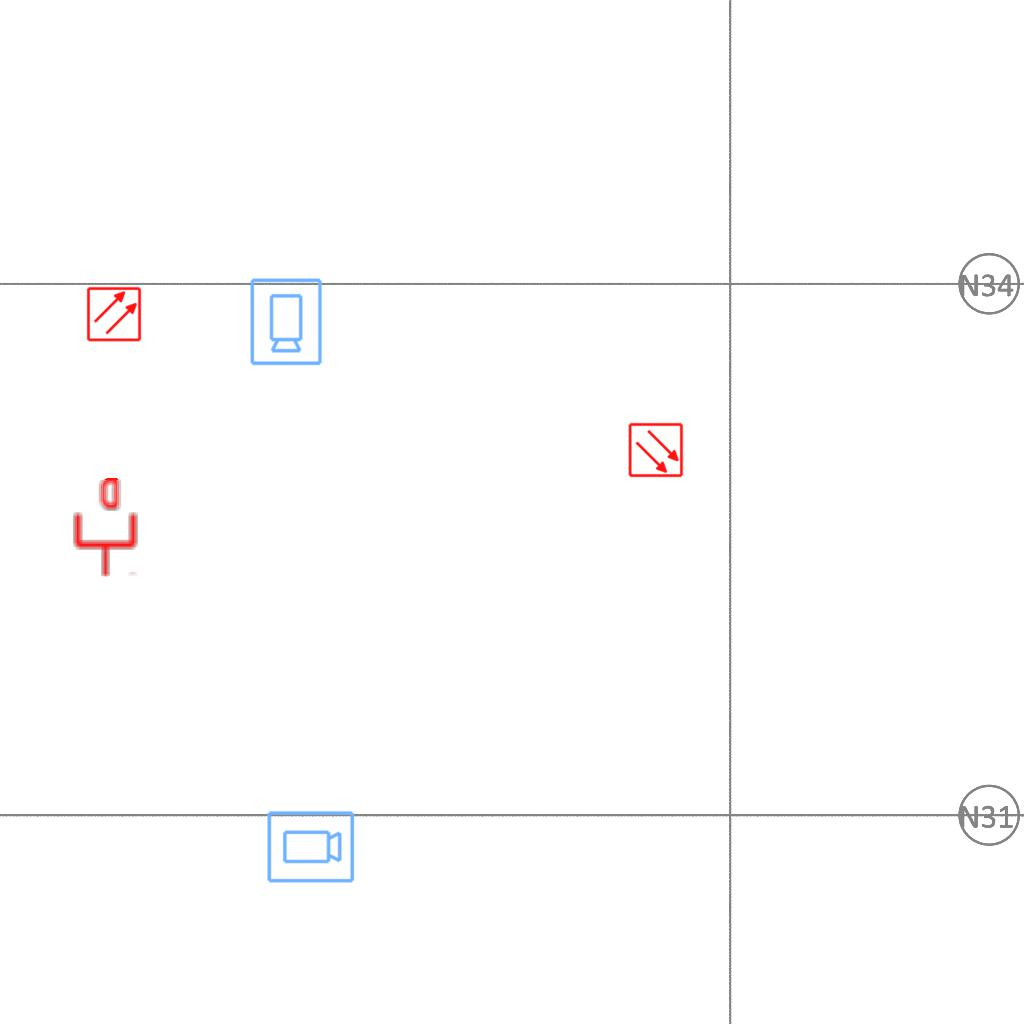Datenanschluss_einfach: (71, 478, 140, 578)
KFO_Kamera_mit_Festobjektiv: (247, 276, 324, 367), (265, 809, 356, 886)
RMO_Rauchmelder_optischer: (86, 286, 142, 342), (628, 422, 684, 478)
